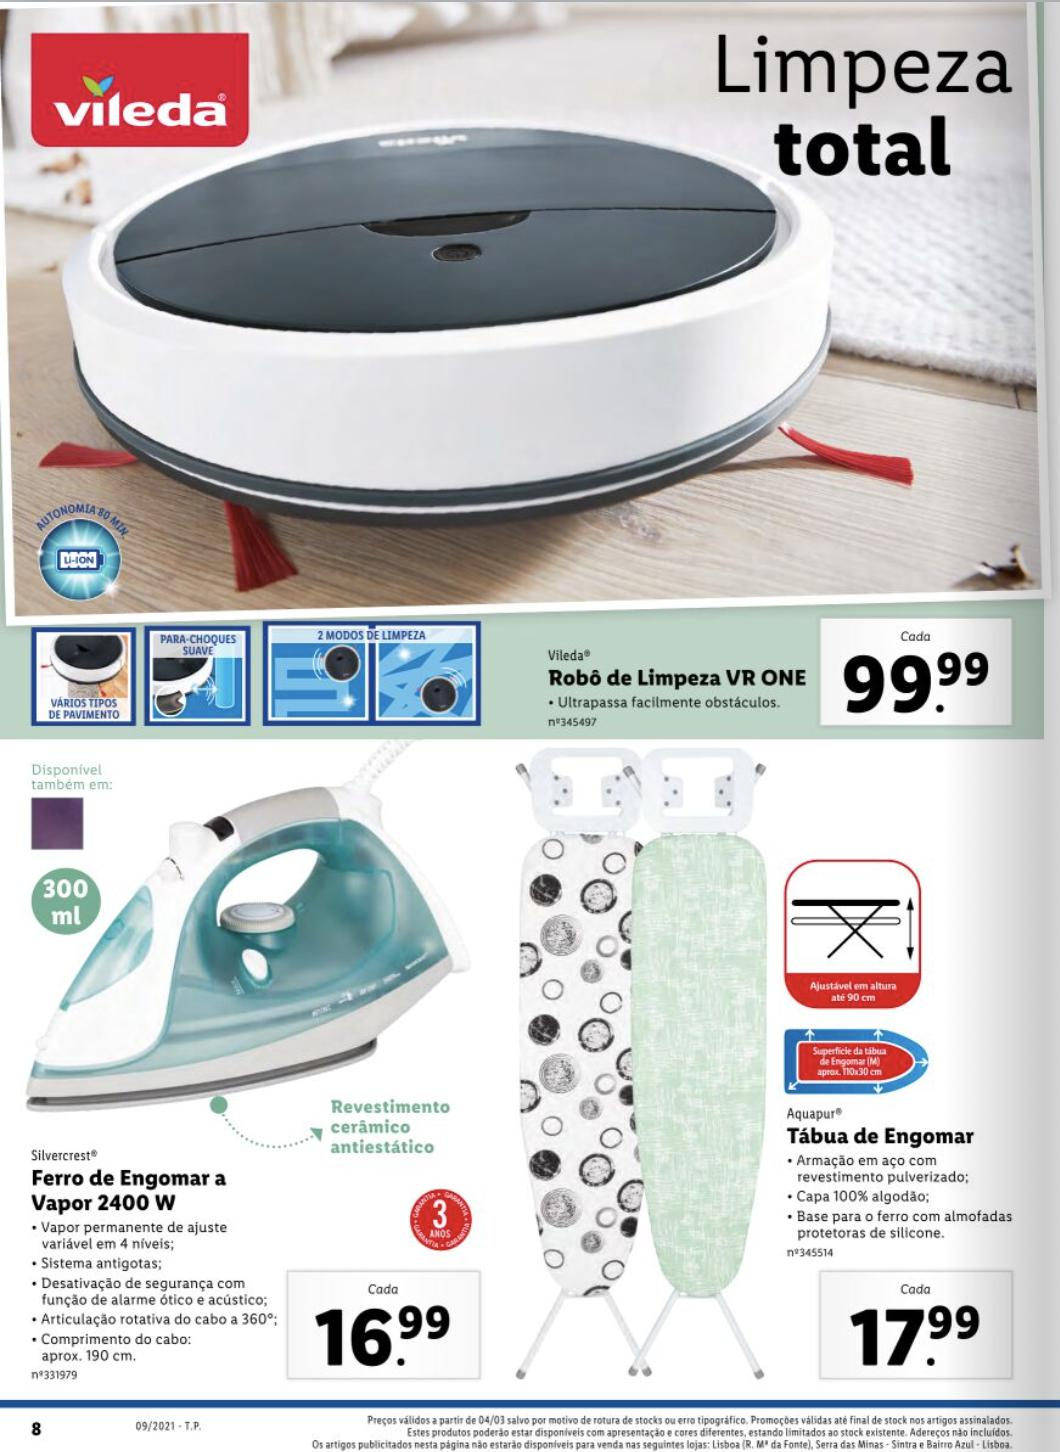name: (28, 1163, 235, 1220), (548, 661, 820, 692), (781, 1119, 982, 1152)
price: (834, 640, 995, 718), (315, 1300, 457, 1370), (848, 1300, 991, 1369)
product: (19, 1, 1044, 732), (510, 738, 1050, 1404), (15, 749, 488, 1385)
